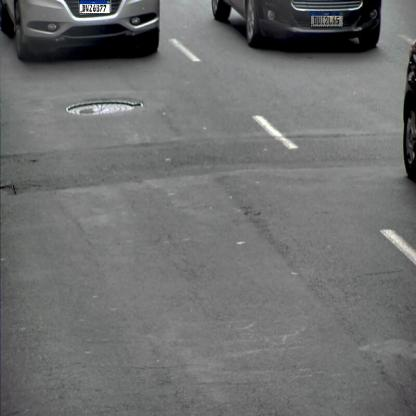PlacaM: (310, 11, 344, 27), (79, 0, 110, 14)
